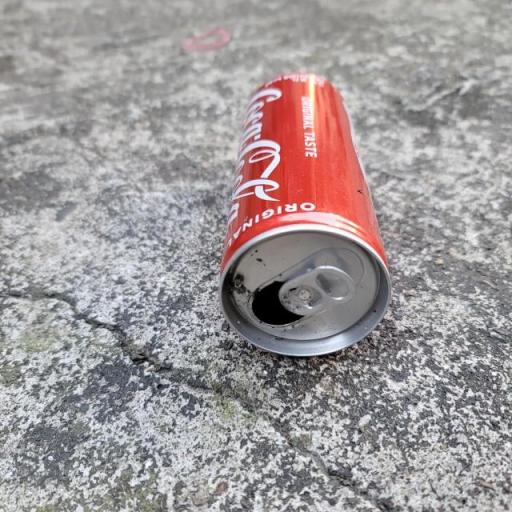metal: (198, 51, 408, 379)
